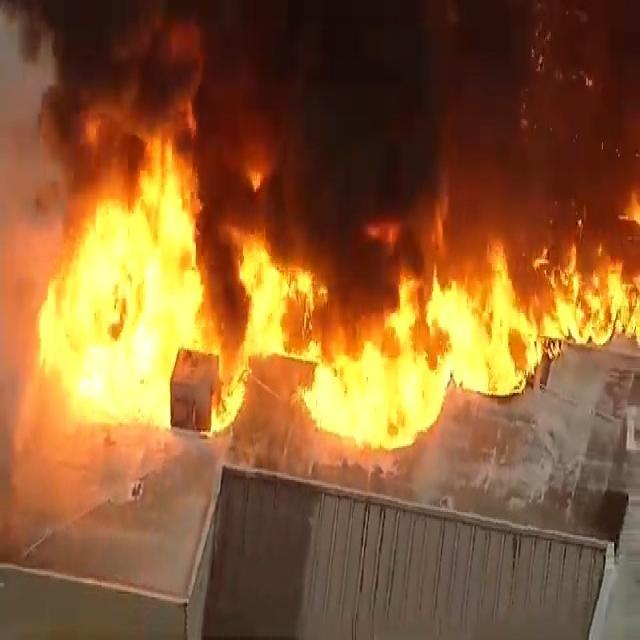Fire: (246, 236, 640, 438), (35, 142, 226, 411)
Smoke: (16, 3, 638, 296)
